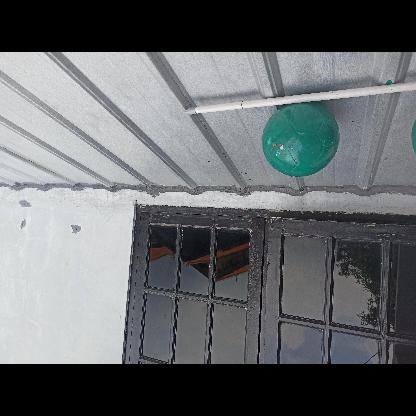green_ball: (262, 103, 338, 179)
